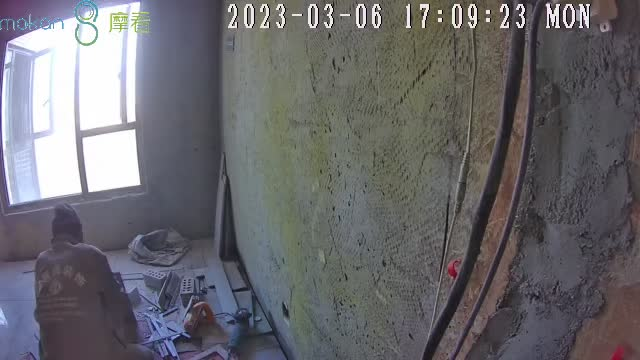people: (35, 203, 159, 360)
window: (5, 1, 148, 203)
